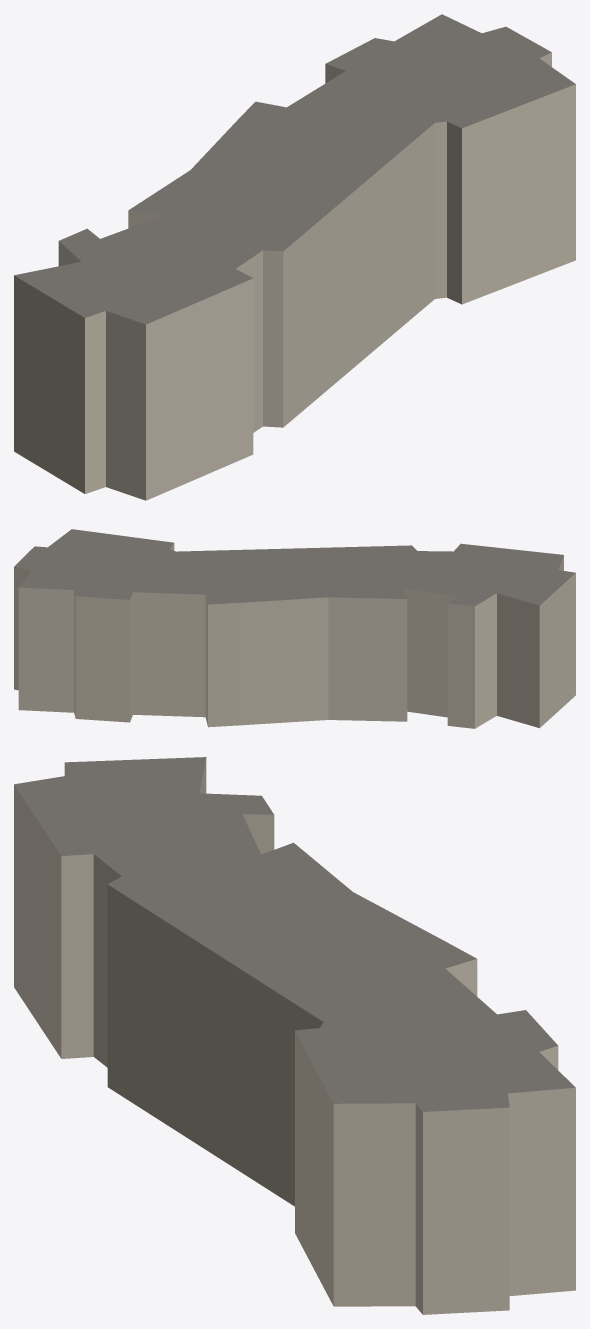
3 renders of one model, top to bottom at view 1: azimuth 30°, elevation 25°; view 2: azimuth 150°, elevation 25°; view 3: azimuth 270°, elevation 25°, orthographic. The views are drawn at different scales.
Parts seen in each view (by area): view 1: HP-w1512495278; view 2: HP-w1512495278; view 3: HP-w1512495278.
Boxes of the visible parts, left/top/right/bottom form: HP-w1512495278: left=14, top=14, right=575, bottom=500; HP-w1512495278: left=14, top=529, right=575, bottom=728; HP-w1512495278: left=14, top=757, right=575, bottom=1314.
Bounding box in the file's own units: 67.56 × 18 × 45.19.
